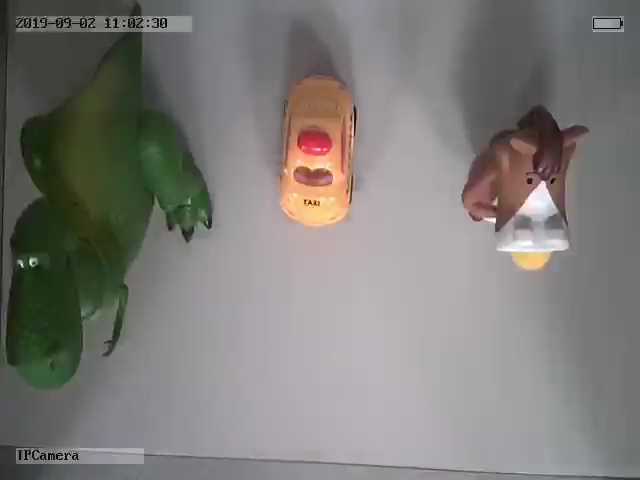car: (275, 73, 359, 232)
horse: (463, 105, 590, 274)
rex: (7, 32, 215, 389)
